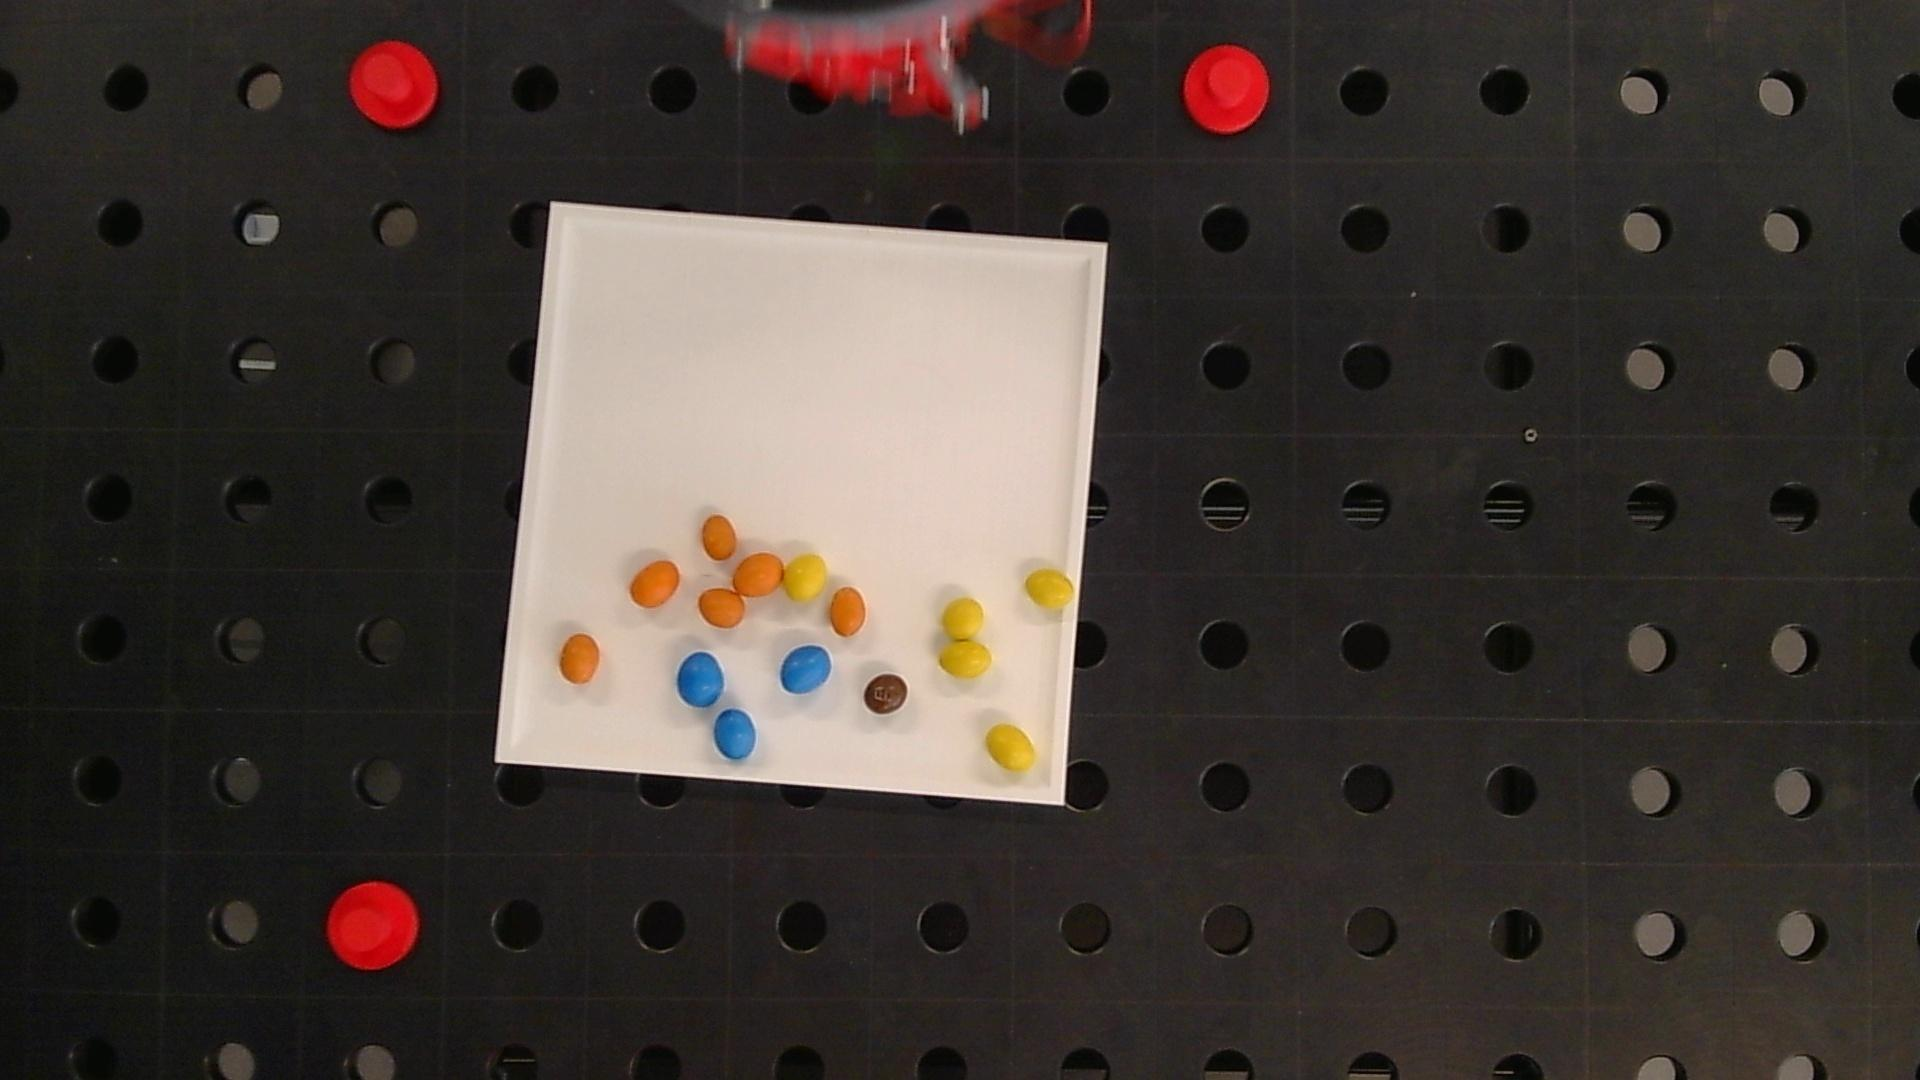blue: (676, 651, 724, 707), (781, 645, 831, 694), (713, 709, 757, 760)
brown: (864, 674, 909, 715)
orange: (629, 559, 679, 608), (733, 553, 783, 596), (559, 633, 600, 683), (831, 587, 865, 636), (702, 589, 745, 626), (702, 514, 737, 559)
yellow: (985, 724, 1036, 771), (939, 641, 993, 679), (783, 554, 827, 600), (1025, 570, 1075, 609), (942, 597, 985, 640)
